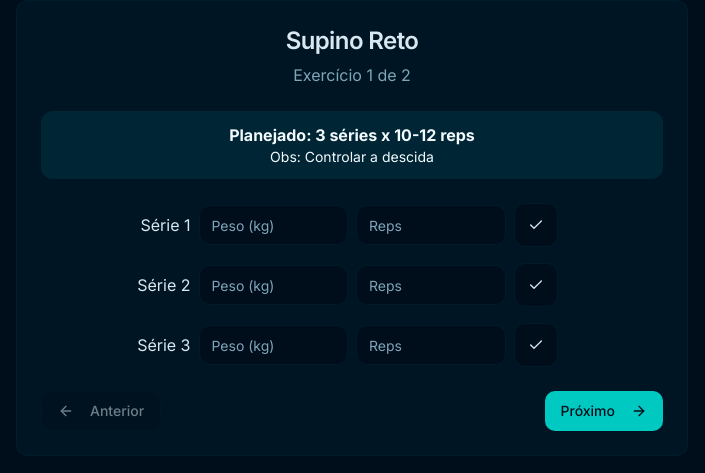
it: WorkoutSession › navigates to next exercise when "Próximo" is clicked
This screenshot has width=705, height=473.
Click the button "Próximo" at (604, 411), box [544, 391, 663, 431]
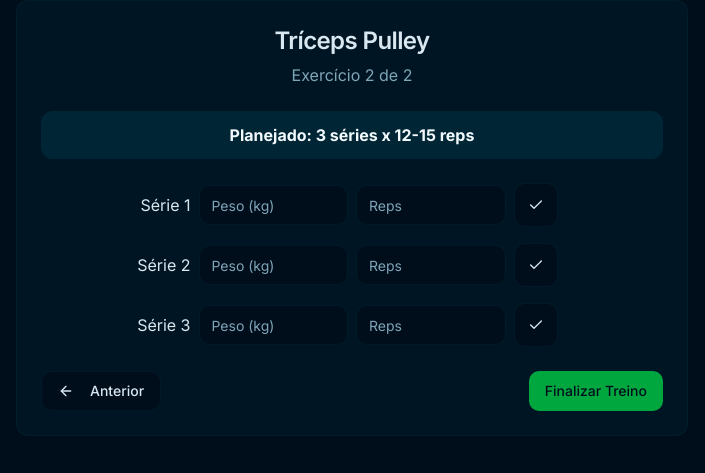
Check: the heading "Tríceps Pulley" is shown, box [274, 26, 430, 55]
Check: the text "Exercício 2 de 2" is shown, box [292, 65, 412, 85]
